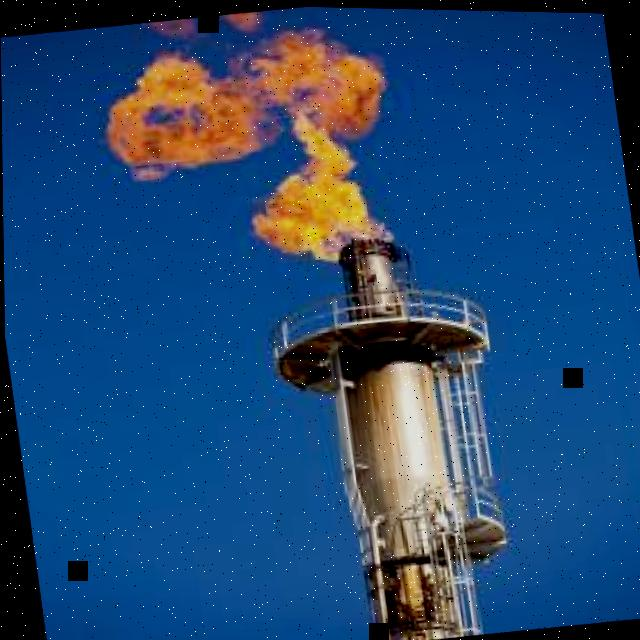fire: (100, 26, 395, 262), (142, 17, 203, 41), (222, 10, 261, 32)
